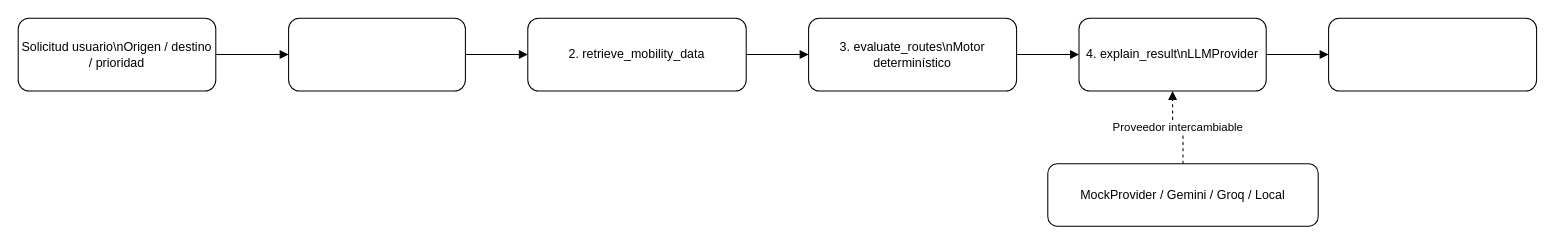
Image size: 1555x244. Some labels were removed from this diagram. Here are the shapes that lost their labels. From the top down, the centre of each, then its label:
the point at 376,54: 1. parse_request
the point at 1432,54: Respuesta\nRuta + evidencia + confianza
